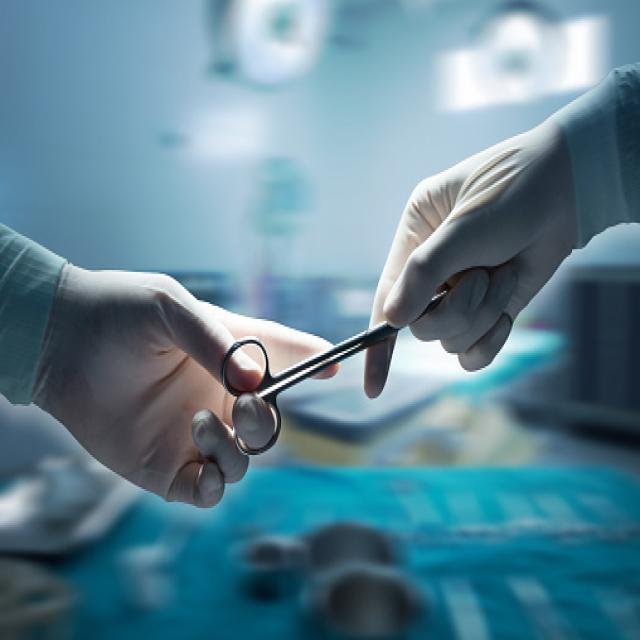tesoura: (219, 281, 454, 455)
